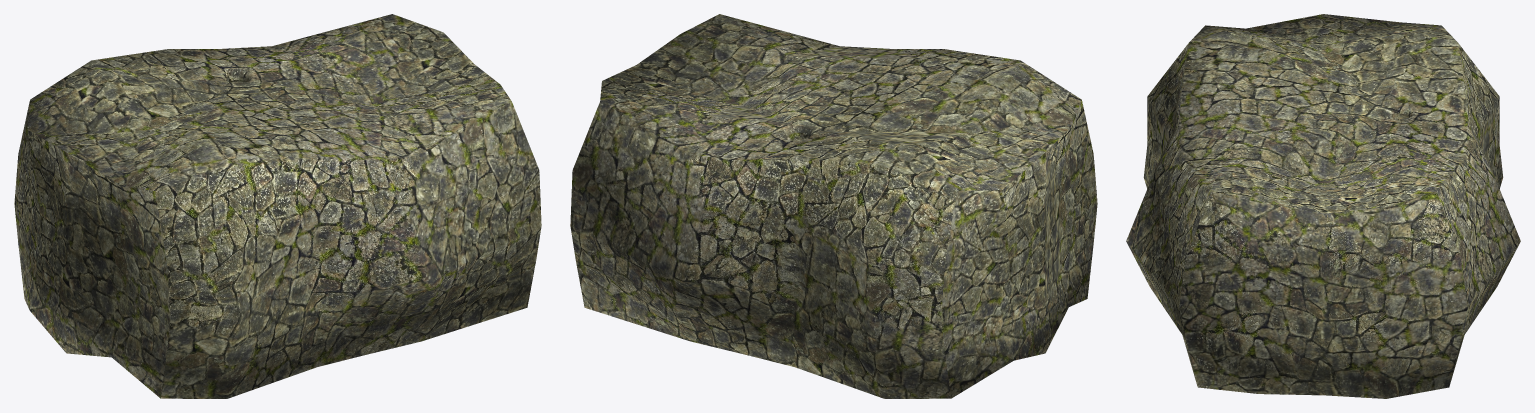
Rendered from AltarBase 1.FBX.
3 renders of one model, left to right at view 1: azimuth 30°, elevation 25°; view 2: azimuth 150°, elevation 25°; view 3: azimuth 270°, elevation 25°, orthographic. The views are drawn at different scales.
Visible parts, largest first — view 1: Object186; view 2: Object186; view 3: Object186.
Boxes of the visible parts, x1=… form: Object186: x1=14, y1=14, x2=541, y2=398; Object186: x1=570, y1=14, x2=1097, y2=398; Object186: x1=1126, y1=14, x2=1520, y2=398.
Size of the model in its own units: 187 by 104 by 161.
